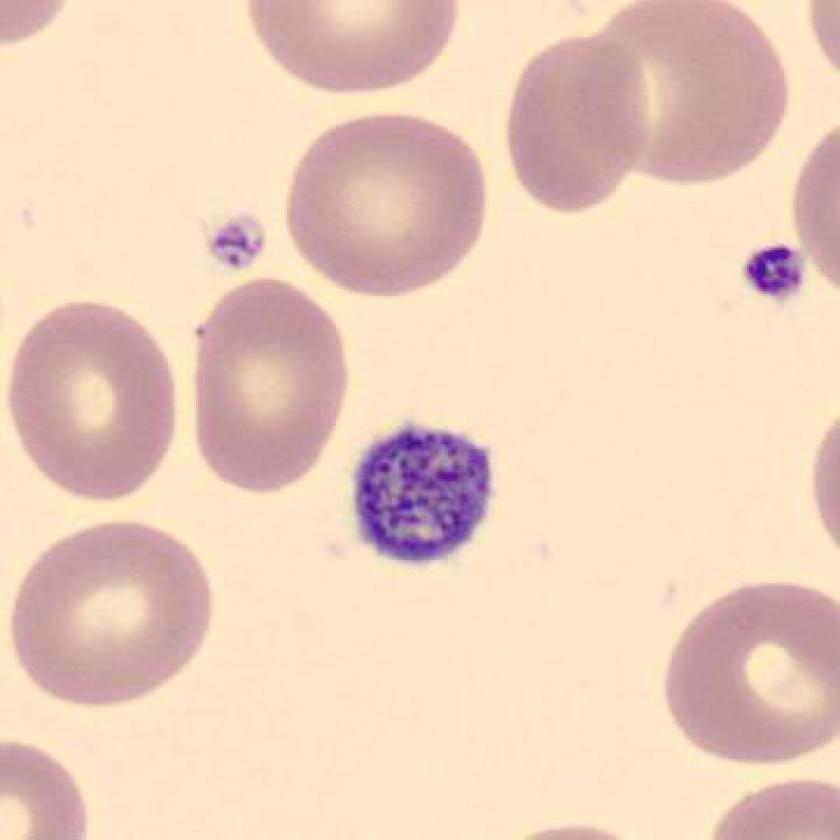platelets: (342, 415, 500, 573), (734, 242, 815, 311), (204, 205, 269, 276)
